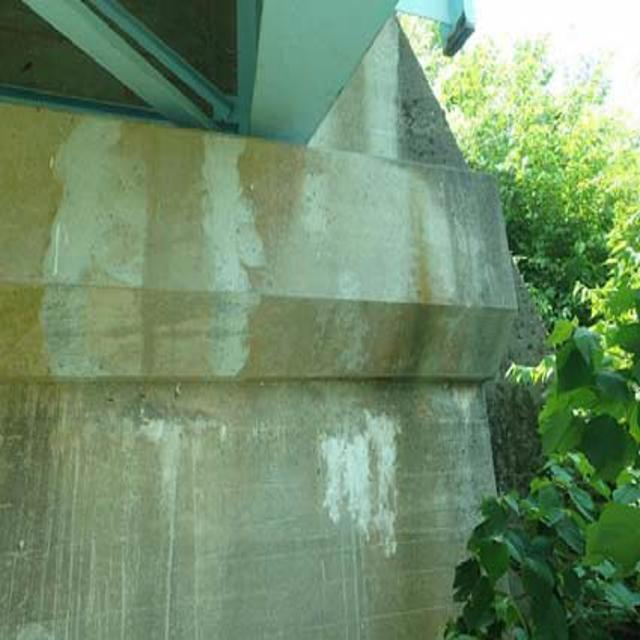freelime: (44, 111, 153, 380), (200, 126, 273, 384), (313, 403, 410, 556)
